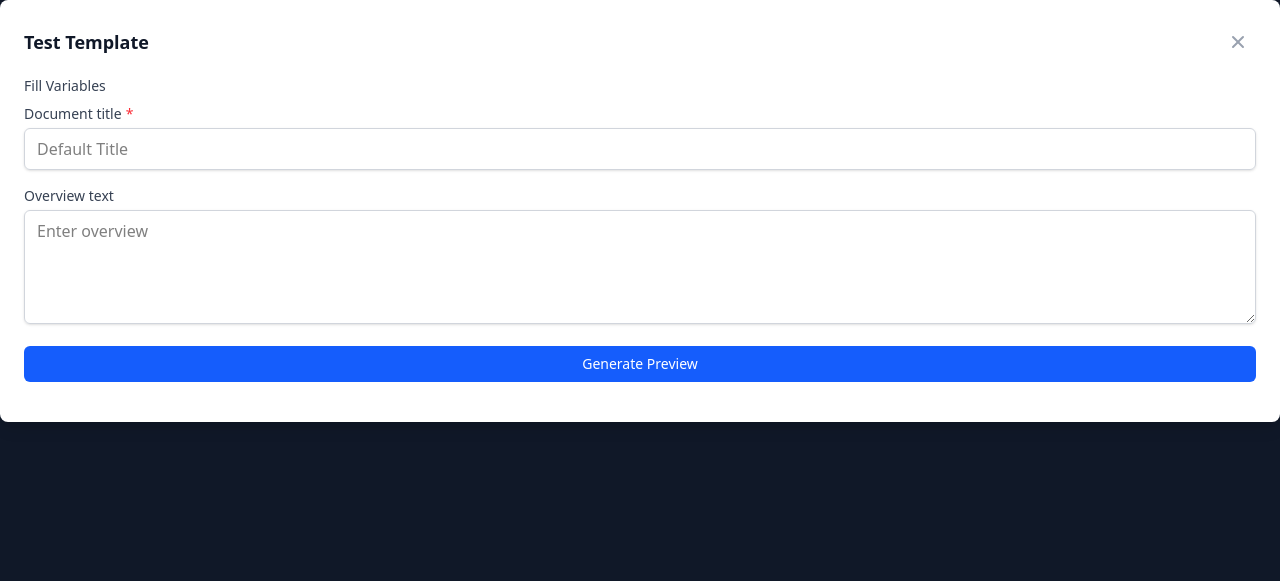
Test: TemplatePreview › preview generation › should show preview result after generate button clicked
// Fill in variables
In the field labelled "Document title*": (640, 149) top-left (24, 128), bottom-right (1256, 170), type "My Title"
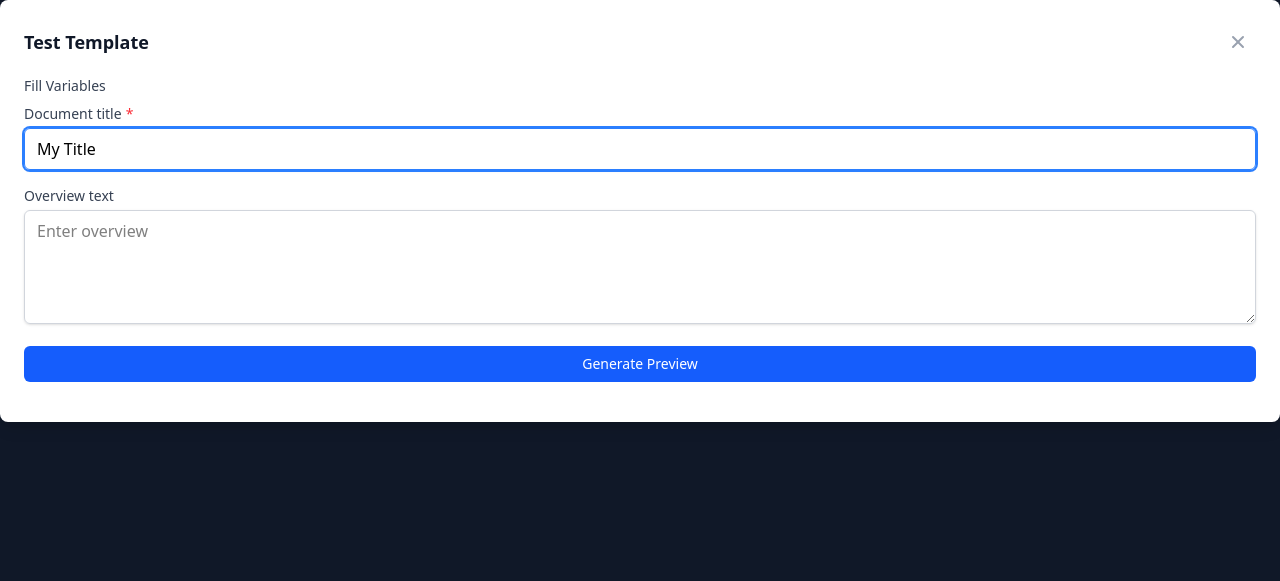
In the text box labelled "Overview text": (640, 267) top-left (24, 210), bottom-right (1256, 324), type "This is the overview."
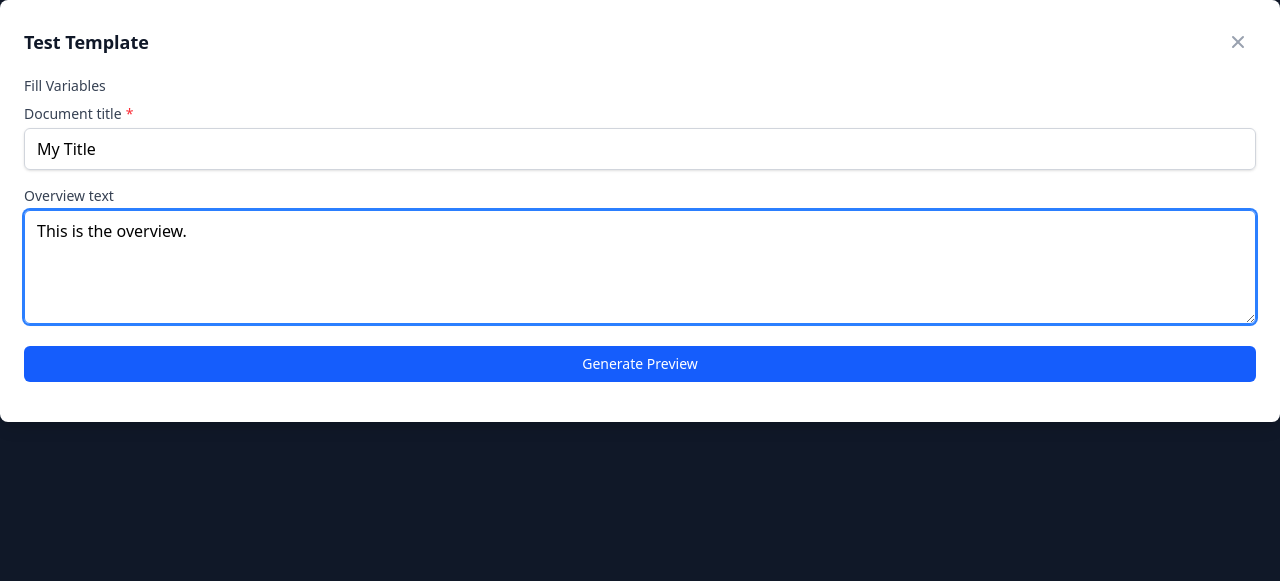
// Click generate
Click the button "Generate Preview": (640, 364) top-left (24, 346), bottom-right (1256, 382)
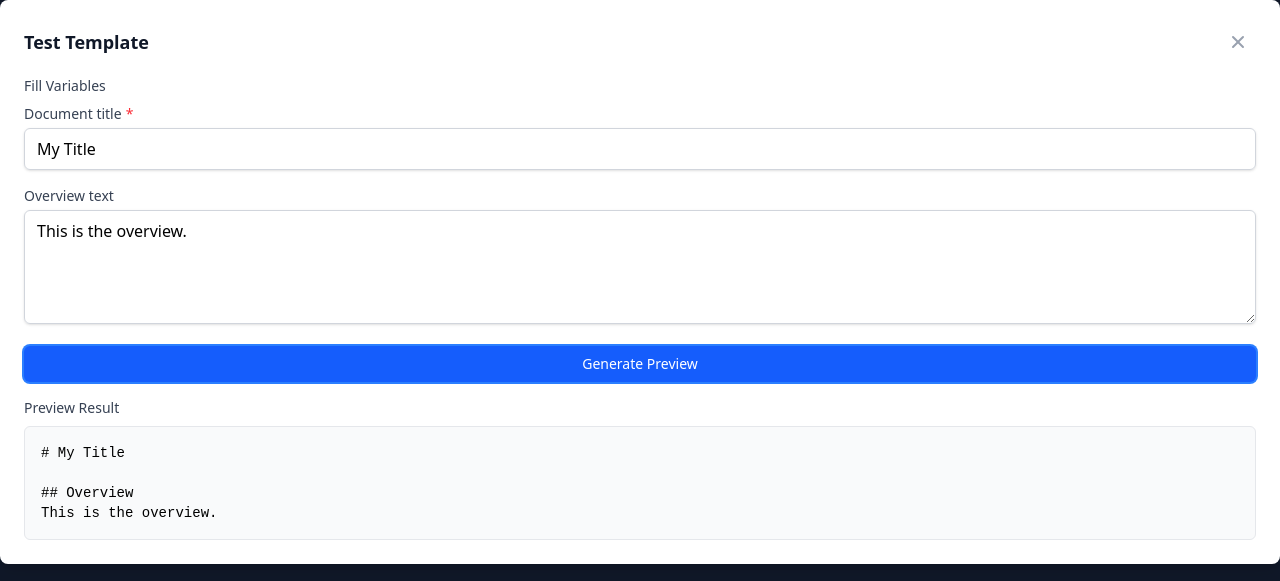
Check: the text "# My Title ## Overview This is the overview." is shown, box top-left (24, 426), bottom-right (1256, 540)
